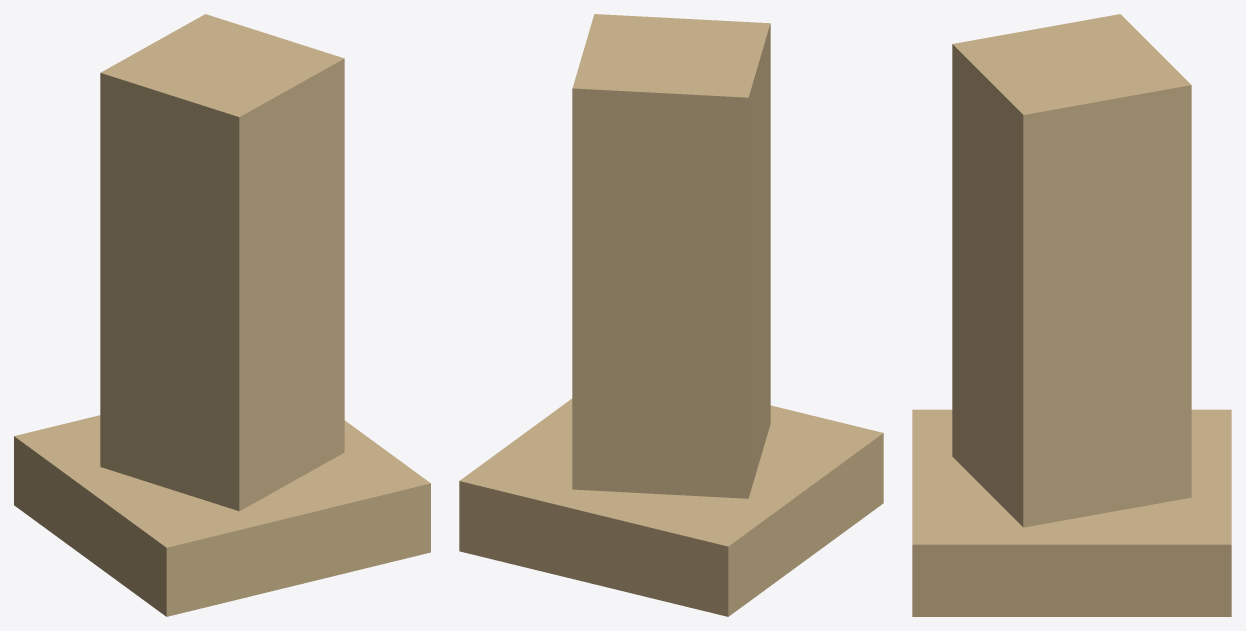
The model's file is Sculpture.glb.
The picture shows the model from 3 angles, left to right: view 1: azimuth 30°, elevation 25°; view 2: azimuth 150°, elevation 25°; view 3: azimuth 270°, elevation 25°; orthographic projection. The views are drawn at different scales.
Parts seen in each view (by area): view 1: sculpture-static-sculpture-stone; view 2: sculpture-static-sculpture-stone; view 3: sculpture-static-sculpture-stone.
Boxes of the visible parts, left/top/right/bottom form: sculpture-static-sculpture-stone: left=14, top=14, right=430, bottom=616; sculpture-static-sculpture-stone: left=459, top=14, right=883, bottom=616; sculpture-static-sculpture-stone: left=912, top=14, right=1231, bottom=616.
Size of the model in its own units: 1.4 by 2.34 by 1.4.
